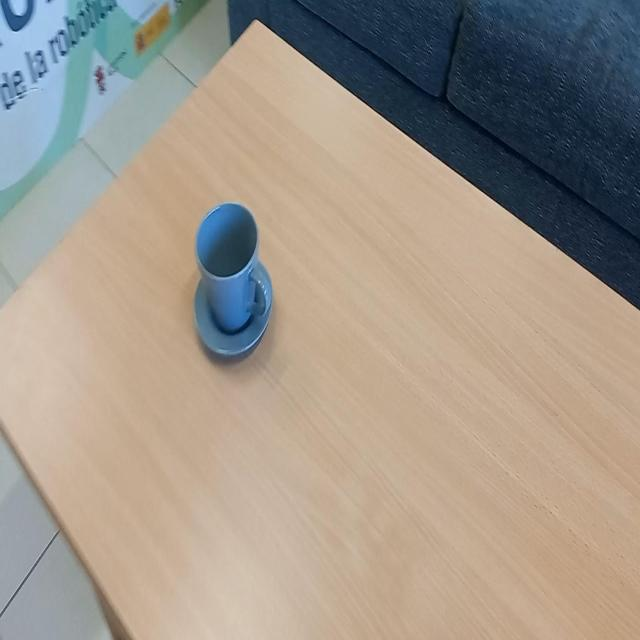cup: (193, 200, 273, 336)
